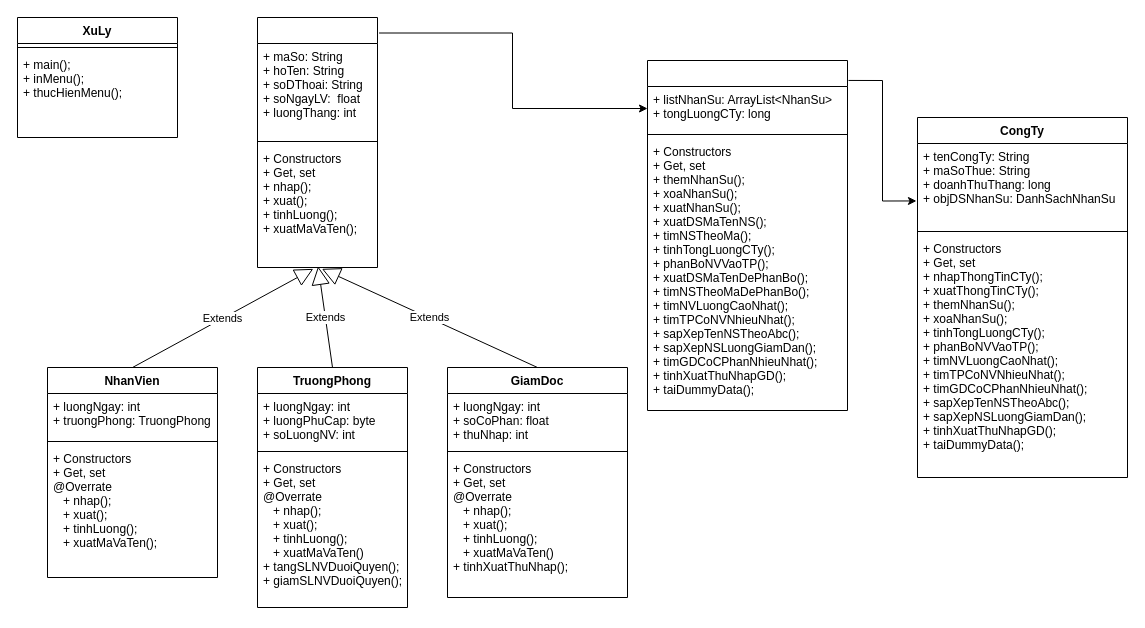
The diagram is 1145 pixels wide and 628 high, and some of its shapes have lost their labels. Each missing label, with the box of its shape:
DanhSachNhanSu: (646, 60, 848, 410)
NhanSu: (256, 16, 378, 268)
